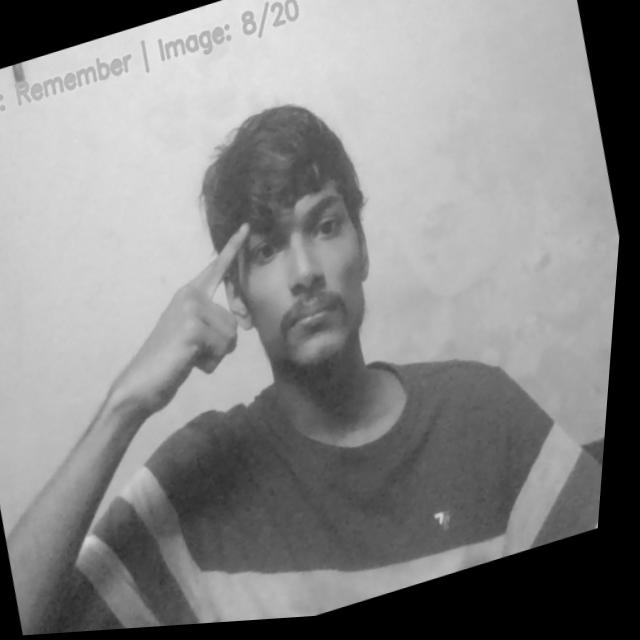Remember: (85, 203, 296, 436)
